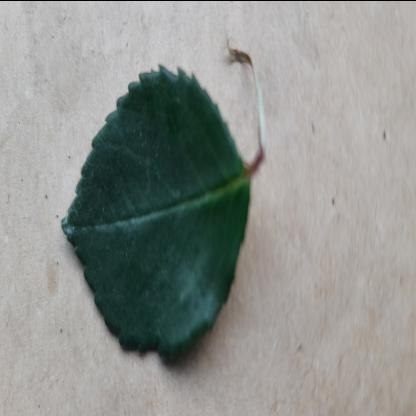normal: (56, 57, 246, 365)
